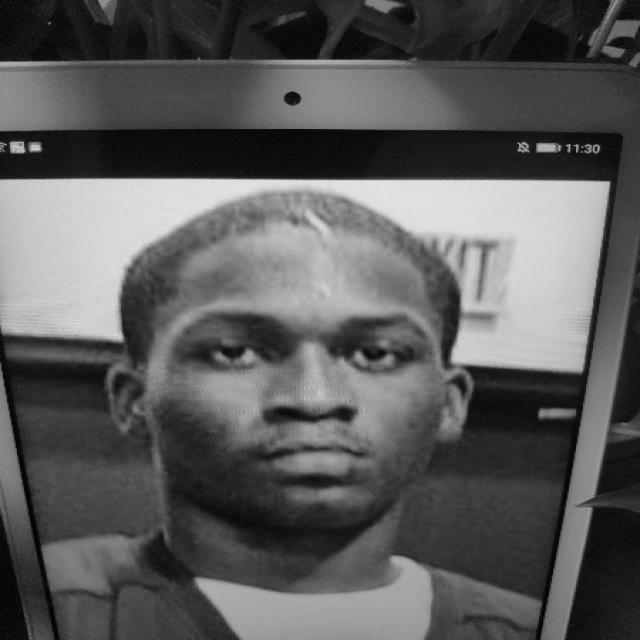fake: (5, 54, 635, 640)
